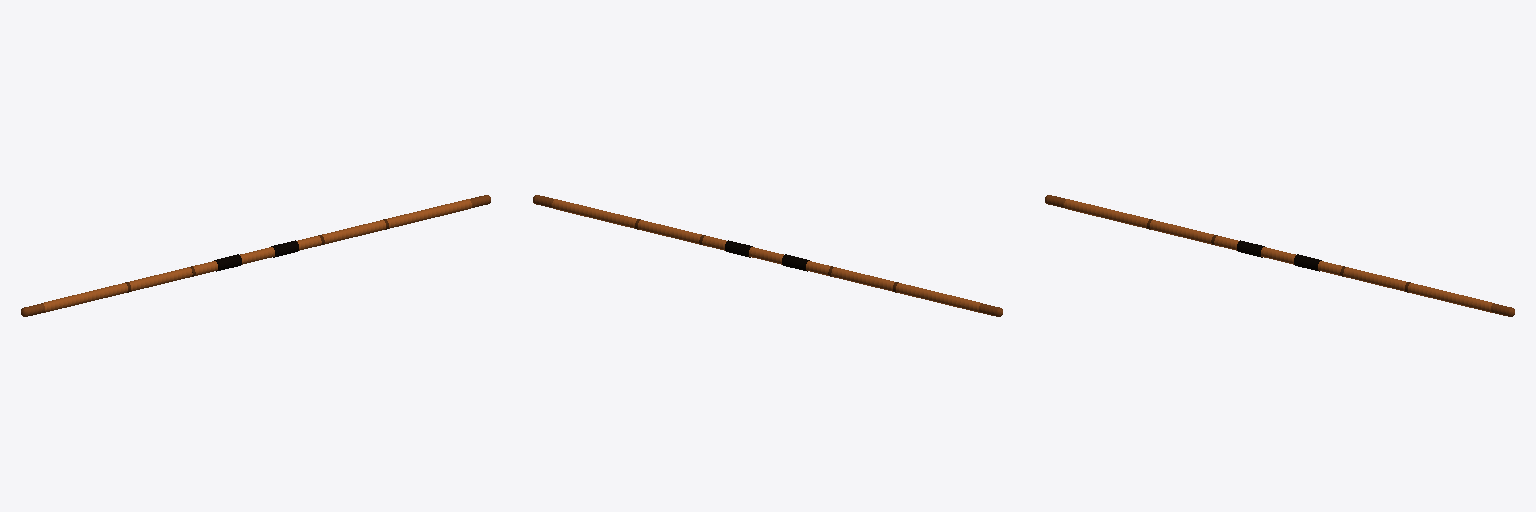
URDF robot description (wooden_bo_staff):
<robot name="wooden_bo_staff">
  <material name="warm_wood">
    <color rgba="0.63 0.36 0.16 1" />
    </material>
  <material name="end_grain">
    <color rgba="0.48 0.27 0.12 1" />
    </material>
  <material name="dark_grip_wrap">
    <color rgba="0.075 0.052 0.035 1" />
    </material>
  <material name="fine_wood_line">
    <color rgba="0.34 0.19 0.08 1" />
    </material>
  <link name="staff">
    <inertial>
      <mass value="0.72" />
      <inertia ixx="0.00021168" ixy="0" ixz="0" iyy="0.203242" iyz="0" izz="0.203242" />
      </inertial>
    <visual name="shaft">
      <origin xyz="0 0 0" rpy="0 1.5708 0" />
      <geometry>
        <cylinder radius="0.018" length="1.72" />
        </geometry>
      <material name="warm_wood">
        <color rgba="0.63 0.36 0.16 1" />
        </material>
      </visual>
    <visual name="tip_region_0">
      <origin xyz="-0.89 0 0" rpy="0 1.5708 0" />
      <geometry>
        <cylinder radius="0.017" length="0.08" />
        </geometry>
      <material name="end_grain">
        <color rgba="0.48 0.27 0.12 1" />
        </material>
      </visual>
    <visual name="tip_region_0_rounded_end">
      <origin xyz="-0.93 0 0" rpy="0 0 0" />
      <geometry>
        <sphere radius="0.017" />
        </geometry>
      <material name="end_grain">
        <color rgba="0.48 0.27 0.12 1" />
        </material>
      </visual>
    <visual name="tip_region_1">
      <origin xyz="0.89 0 0" rpy="0 1.5708 0" />
      <geometry>
        <cylinder radius="0.017" length="0.08" />
        </geometry>
      <material name="end_grain">
        <color rgba="0.48 0.27 0.12 1" />
        </material>
      </visual>
    <visual name="tip_region_1_rounded_end">
      <origin xyz="0.93 0 0" rpy="0 0 0" />
      <geometry>
        <sphere radius="0.017" />
        </geometry>
      <material name="end_grain">
        <color rgba="0.48 0.27 0.12 1" />
        </material>
      </visual>
    <visual name="grip_band_0">
      <origin xyz="-0.115 0 0" rpy="0 1.5708 0" />
      <geometry>
        <cylinder radius="0.0205" length="0.095" />
        </geometry>
      <material name="dark_grip_wrap">
        <color rgba="0.075 0.052 0.035 1" />
        </material>
      </visual>
    <visual name="grip_band_1">
      <origin xyz="0.115 0 0" rpy="0 1.5708 0" />
      <geometry>
        <cylinder radius="0.0205" length="0.095" />
        </geometry>
      <material name="dark_grip_wrap">
        <color rgba="0.075 0.052 0.035 1" />
        </material>
      </visual>
    <visual name="wood_grain_ring_480">
      <origin xyz="-0.52 0 0" rpy="0 1.5708 0" />
      <geometry>
        <cylinder radius="0.0185" length="0.012" />
        </geometry>
      <material name="fine_wood_line">
        <color rgba="0.34 0.19 0.08 1" />
        </material>
      </visual>
    <visual name="wood_grain_ring_740">
      <origin xyz="-0.26 0 0" rpy="0 1.5708 0" />
      <geometry>
        <cylinder radius="0.0185" length="0.012" />
        </geometry>
      <material name="fine_wood_line">
        <color rgba="0.34 0.19 0.08 1" />
        </material>
      </visual>
    <visual name="wood_grain_ring_1260">
      <origin xyz="0.26 0 0" rpy="0 1.5708 0" />
      <geometry>
        <cylinder radius="0.0185" length="0.012" />
        </geometry>
      <material name="fine_wood_line">
        <color rgba="0.34 0.19 0.08 1" />
        </material>
      </visual>
    <visual name="wood_grain_ring_1520">
      <origin xyz="0.52 0 0" rpy="0 1.5708 0" />
      <geometry>
        <cylinder radius="0.0185" length="0.012" />
        </geometry>
      <material name="fine_wood_line">
        <color rgba="0.34 0.19 0.08 1" />
        </material>
      </visual>
    <collision name="shaft">
      <origin xyz="0 0 0" rpy="0 1.5708 0" />
      <geometry>
        <cylinder radius="0.018" length="1.72" />
        </geometry>
      </collision>
    <collision name="tip_region_0">
      <origin xyz="-0.89 0 0" rpy="0 1.5708 0" />
      <geometry>
        <cylinder radius="0.017" length="0.08" />
        </geometry>
      </collision>
    <collision name="tip_region_0_rounded_end">
      <origin xyz="-0.93 0 0" rpy="0 0 0" />
      <geometry>
        <sphere radius="0.017" />
        </geometry>
      </collision>
    <collision name="tip_region_1">
      <origin xyz="0.89 0 0" rpy="0 1.5708 0" />
      <geometry>
        <cylinder radius="0.017" length="0.08" />
        </geometry>
      </collision>
    <collision name="tip_region_1_rounded_end">
      <origin xyz="0.93 0 0" rpy="0 0 0" />
      <geometry>
        <sphere radius="0.017" />
        </geometry>
      </collision>
    <collision name="grip_band_0">
      <origin xyz="-0.115 0 0" rpy="0 1.5708 0" />
      <geometry>
        <cylinder radius="0.0205" length="0.095" />
        </geometry>
      </collision>
    <collision name="grip_band_1">
      <origin xyz="0.115 0 0" rpy="0 1.5708 0" />
      <geometry>
        <cylinder radius="0.0205" length="0.095" />
        </geometry>
      </collision>
    <collision name="wood_grain_ring_480">
      <origin xyz="-0.52 0 0" rpy="0 1.5708 0" />
      <geometry>
        <cylinder radius="0.0185" length="0.012" />
        </geometry>
      </collision>
    <collision name="wood_grain_ring_740">
      <origin xyz="-0.26 0 0" rpy="0 1.5708 0" />
      <geometry>
        <cylinder radius="0.0185" length="0.012" />
        </geometry>
      </collision>
    <collision name="wood_grain_ring_1260">
      <origin xyz="0.26 0 0" rpy="0 1.5708 0" />
      <geometry>
        <cylinder radius="0.0185" length="0.012" />
        </geometry>
      </collision>
    <collision name="wood_grain_ring_1520">
      <origin xyz="0.52 0 0" rpy="0 1.5708 0" />
      <geometry>
        <cylinder radius="0.0185" length="0.012" />
        </geometry>
      </collision>
    </link>
  </robot>

--- What the picture shows (computed from the rendered views, not written in the file) ---
3 views of the same robot in one strip: view 1: azimuth 30°, elevation 25°; view 2: azimuth 150°, elevation 25°; view 3: azimuth 330°, elevation 25° (orthographic).
Model wooden_bo_staff with 1 links and 0 joints (none), rooted at staff, posed every joint at zero.
Links seen in each view (by area): view 1: staff; view 2: staff; view 3: staff.
Link boxes in pixels (x1,y1,x2,y2): staff: [21, 195, 490, 316]; staff: [533, 195, 1002, 316]; staff: [1045, 195, 1514, 316].
Size in the robot's own frame: 1.89 by 0.041 by 0.041 metres.
Geometry: primitives only (box / cylinder / sphere), no mesh files.
